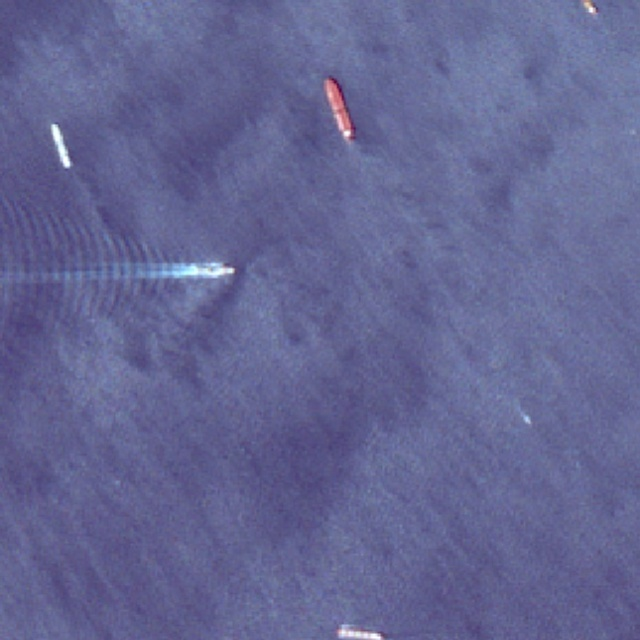wake: (10, 209, 239, 326)
